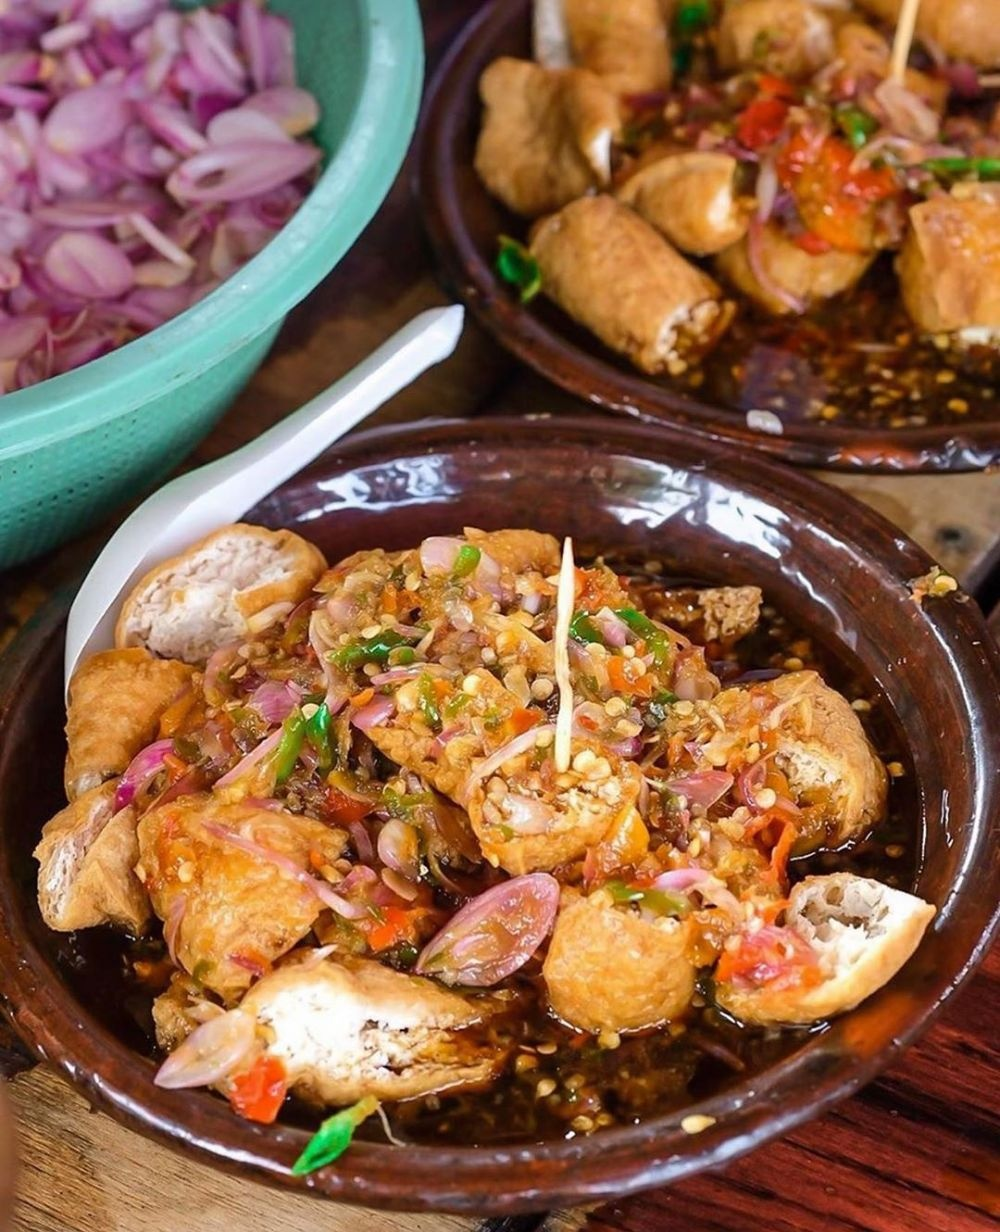tahu_gejrot: (35, 497, 943, 1182), (480, 3, 997, 396)
